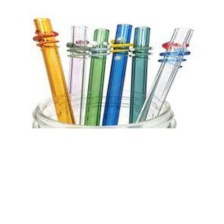drinking_straw: (136, 24, 196, 130), (30, 11, 77, 128), (98, 19, 136, 129)
glass: (28, 84, 182, 133)
